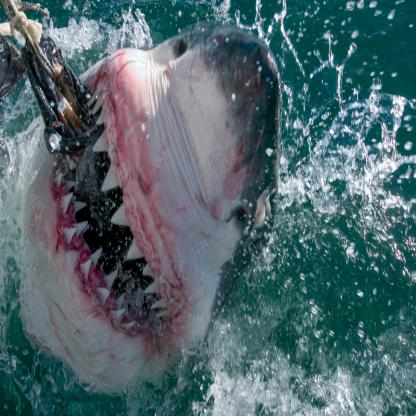white-shark: (17, 18, 282, 398)
